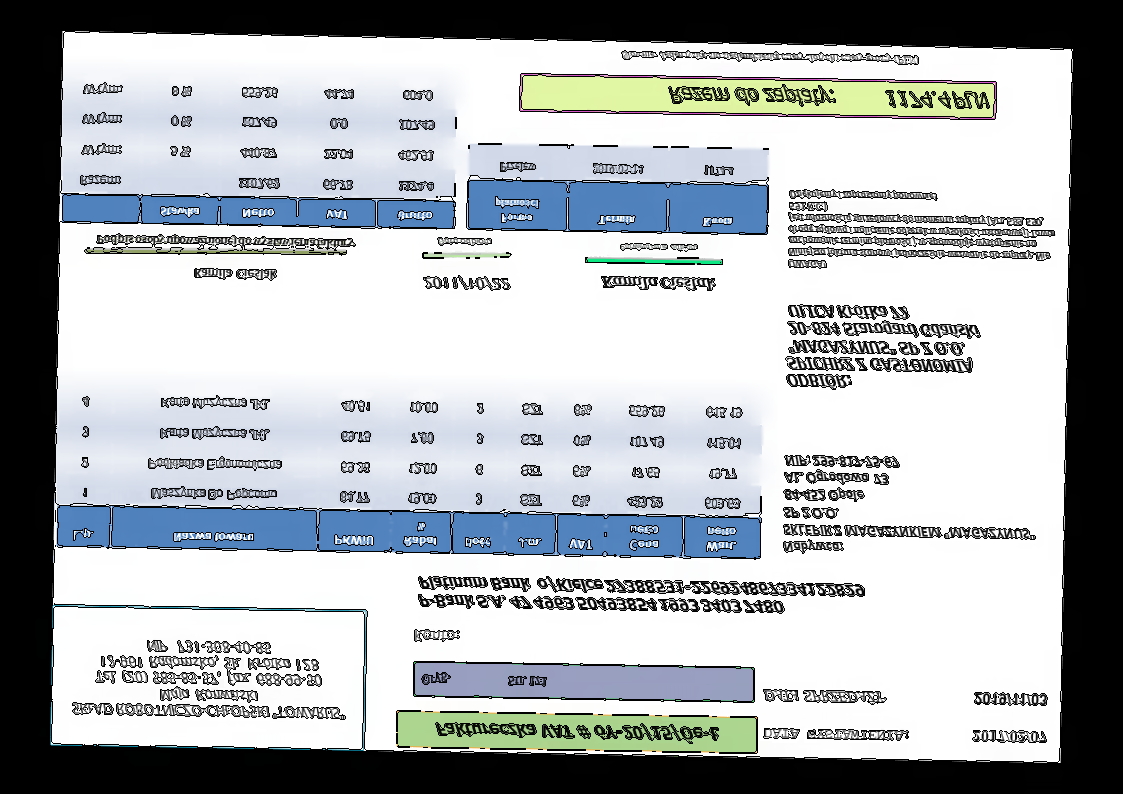Table: (55, 382, 764, 561), (61, 71, 459, 230), (466, 142, 770, 237)
TextBox: (781, 451, 1039, 560), (69, 637, 349, 723), (786, 187, 1060, 274), (415, 574, 866, 618), (785, 302, 984, 393), (666, 82, 992, 116), (433, 717, 722, 745), (620, 47, 921, 69), (93, 230, 357, 253), (759, 725, 912, 744), (419, 669, 548, 690), (600, 273, 719, 294), (762, 688, 889, 707), (422, 274, 512, 294), (971, 726, 1049, 748), (971, 690, 1049, 710), (191, 265, 278, 282), (618, 241, 699, 254), (411, 626, 461, 645), (435, 235, 492, 248)
